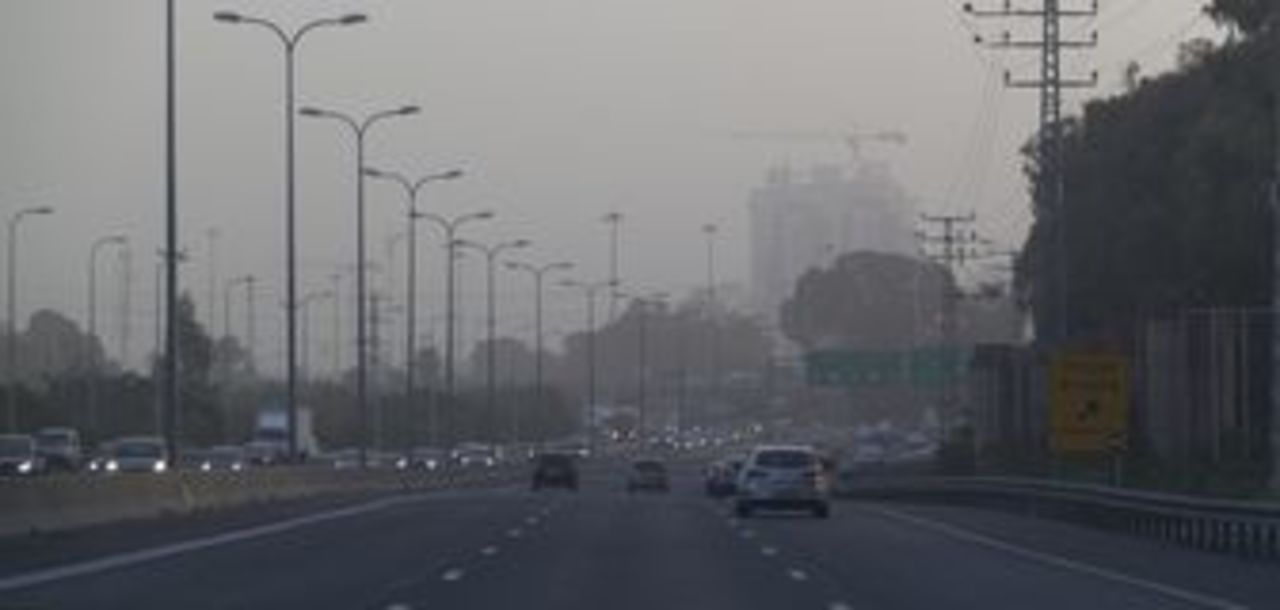car: (730, 449, 826, 514), (105, 438, 167, 474), (0, 433, 48, 475), (534, 453, 577, 487), (202, 444, 246, 471), (627, 454, 661, 488), (396, 445, 442, 466), (712, 451, 735, 492)
truck: (250, 405, 311, 460), (35, 425, 99, 465)
